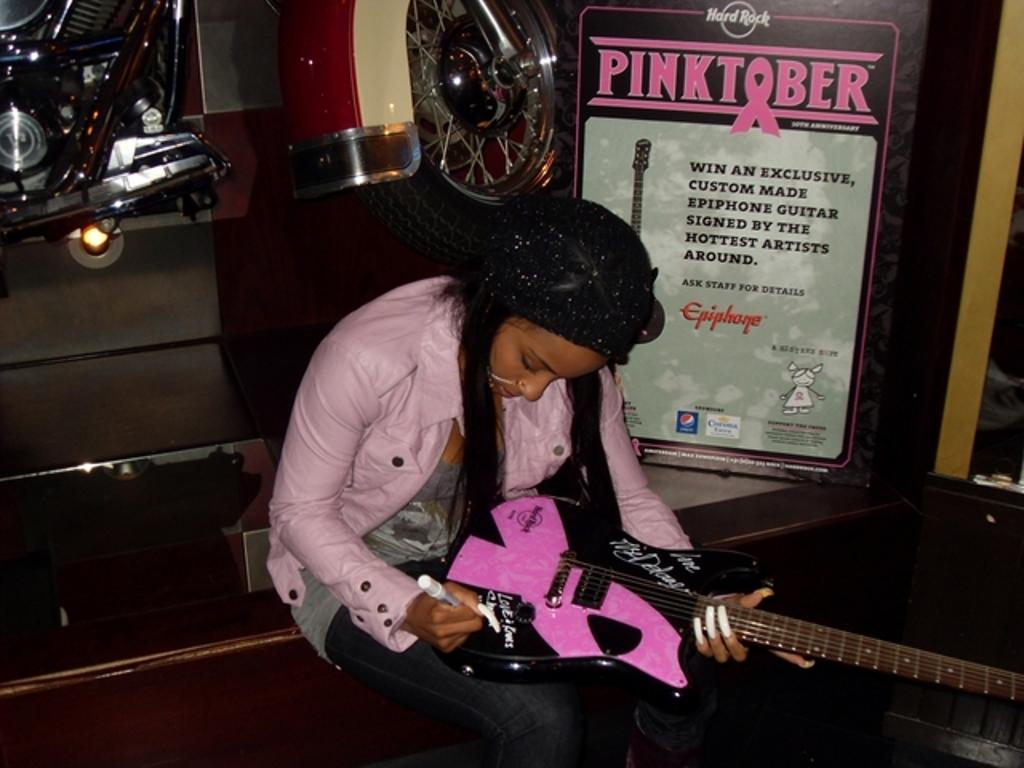face: (480, 298, 610, 402)
